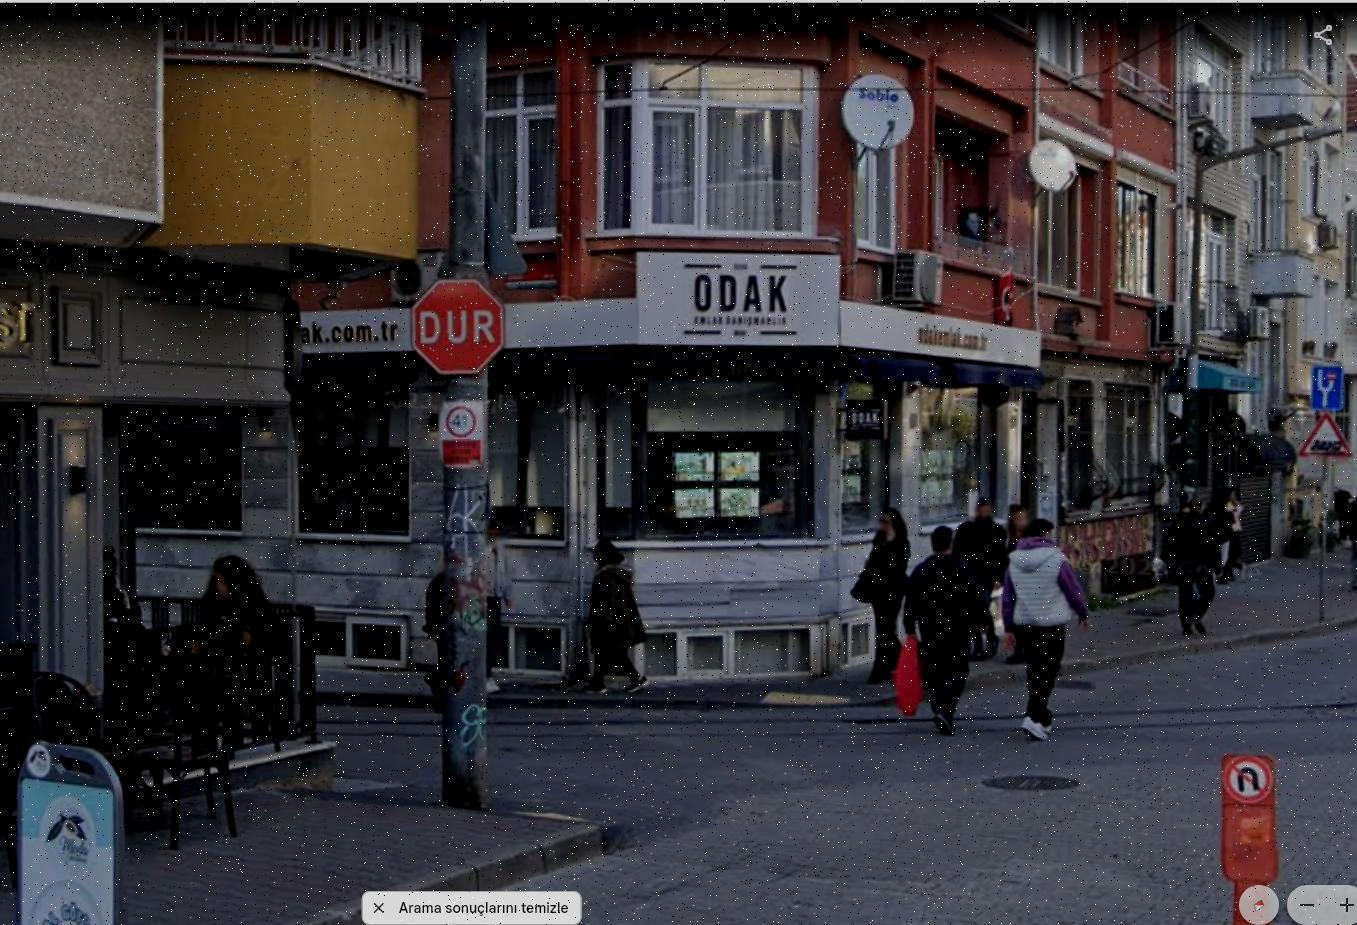stop: (412, 280, 503, 374)
